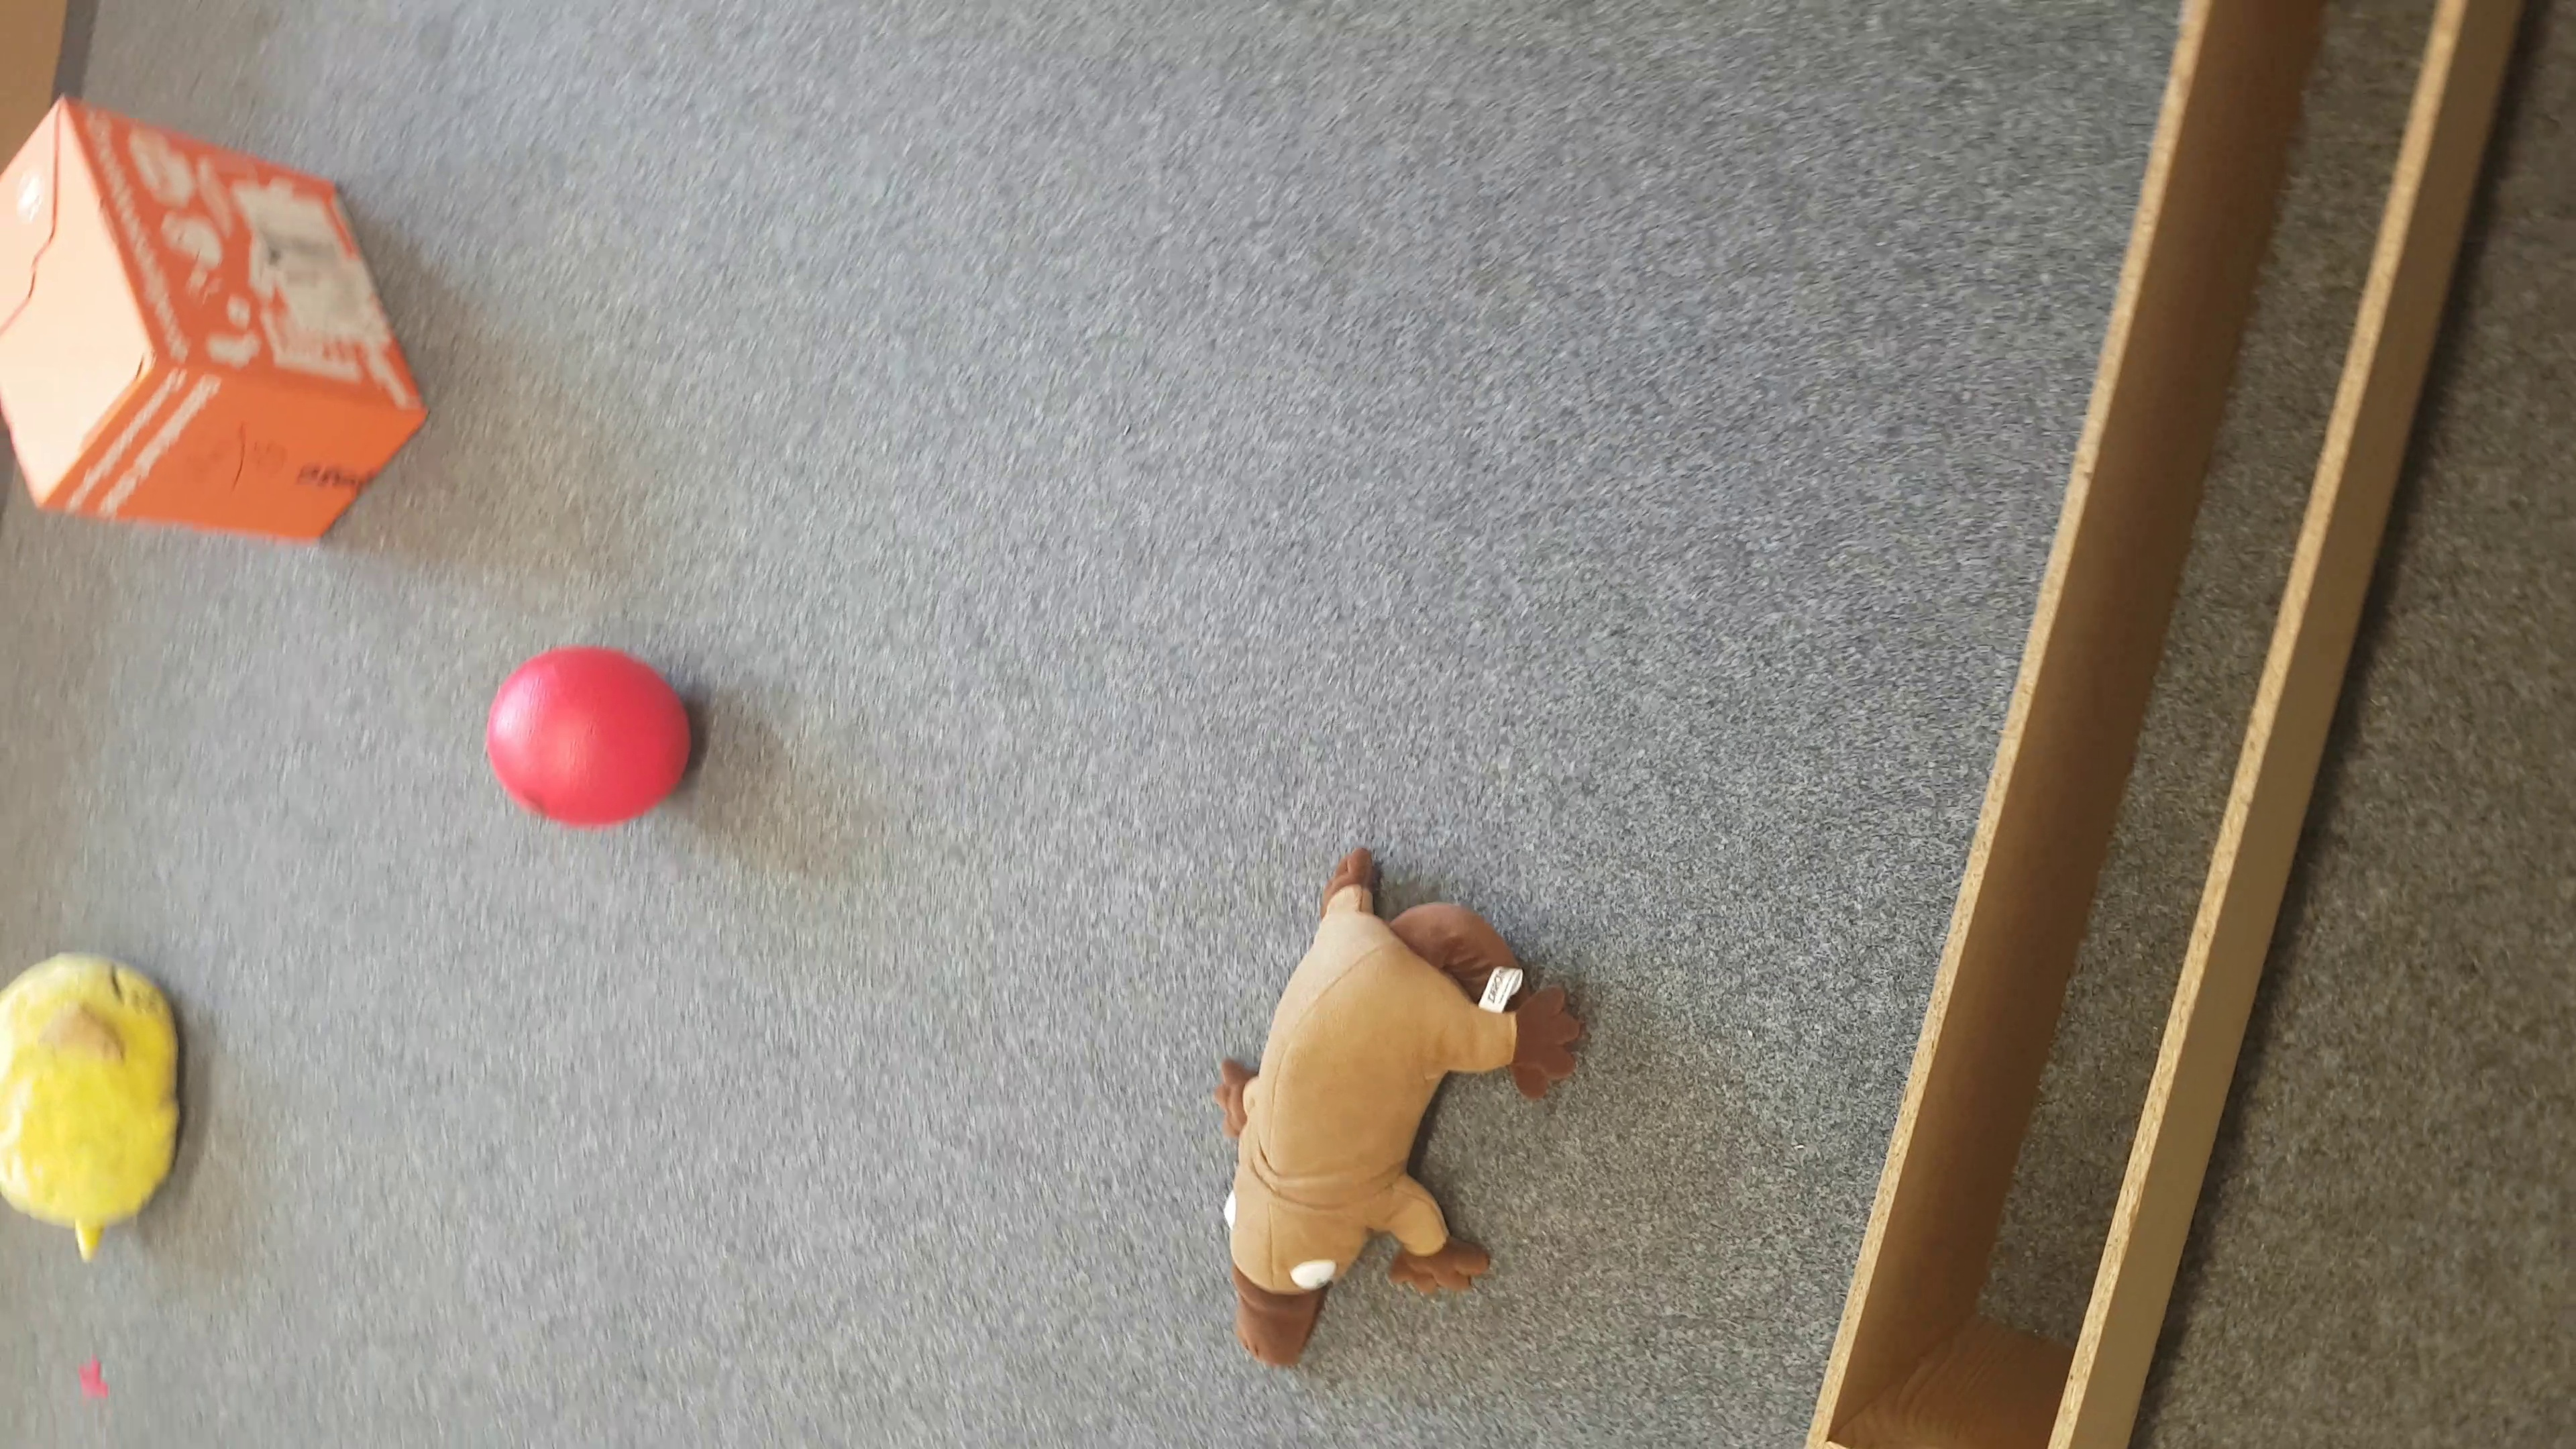grasp: (1214, 847, 1585, 1368), (4, 955, 184, 1253)
kick: (487, 644, 694, 830)
push: (5, 101, 432, 547)
